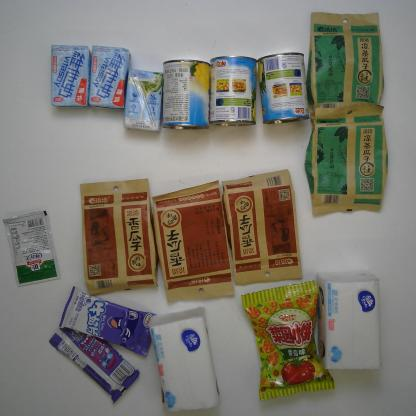Candy: (57, 284, 162, 356), (48, 322, 140, 404)
Canned Food: (254, 45, 312, 127), (205, 48, 260, 132), (160, 52, 212, 133)
Dried Food: (150, 180, 238, 307), (73, 172, 161, 298), (219, 166, 305, 289), (303, 8, 391, 119), (302, 111, 390, 222)
Milk: (47, 39, 93, 110), (121, 63, 166, 135), (86, 42, 131, 112)
Puffed Food: (236, 279, 339, 404)
Seasoner: (0, 208, 62, 293)
Tissue: (144, 309, 223, 412), (320, 272, 383, 373)
